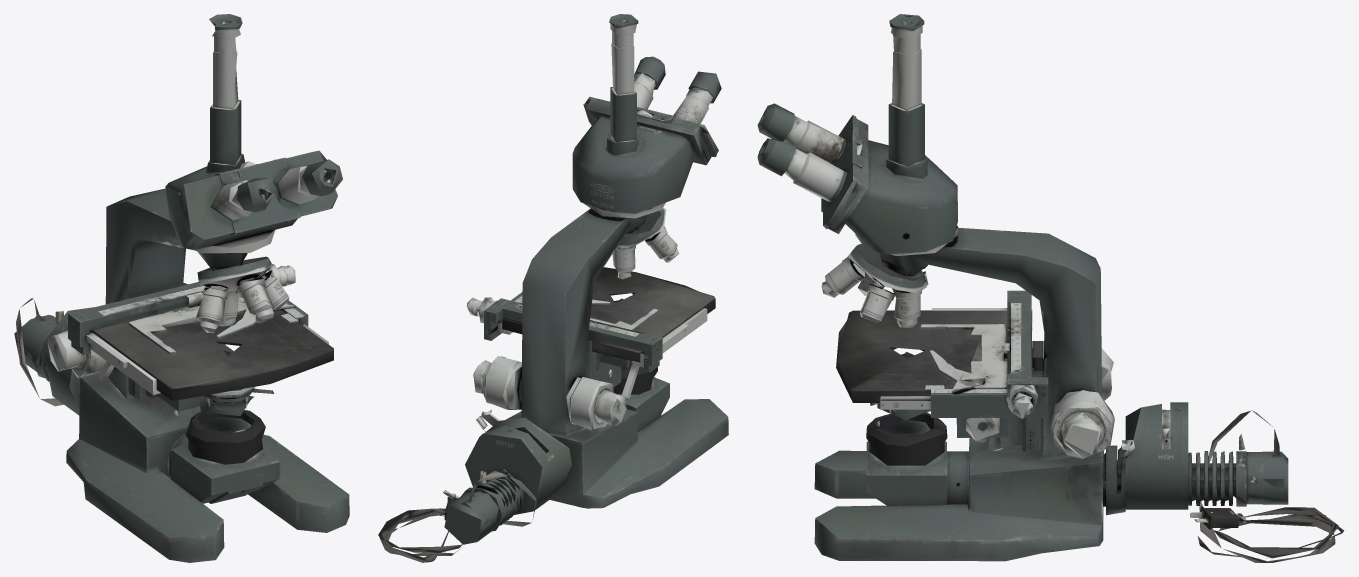
Rendered from industrial_microscope.glb.
The picture shows the model from 3 angles, left to right: view 1: azimuth 30°, elevation 25°; view 2: azimuth 150°, elevation 25°; view 3: azimuth 270°, elevation 25°; orthographic projection. The views are drawn at different scales.
Parts seen in each view (by area): view 1: industrial_microscope_cable; view 2: industrial_microscope_cable; view 3: industrial_microscope_cable.
Boxes of the visible parts, left/top/right/bottom form: industrial_microscope_cable: left=14, top=14, right=349, bottom=562; industrial_microscope_cable: left=378, top=14, right=728, bottom=562; industrial_microscope_cable: left=757, top=14, right=1344, bottom=562.
Bounding box in the file's own units: 0.2145 × 0.4607 × 0.4938.
Materials: 1 (1 with a texture image).
